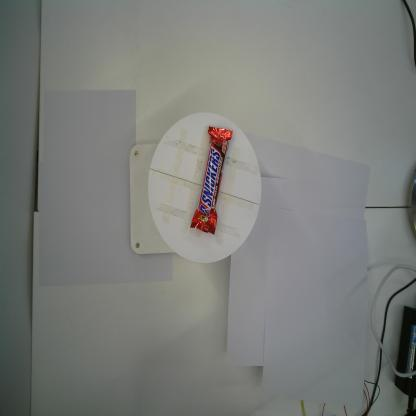Chocolate: (188, 122, 233, 238)
